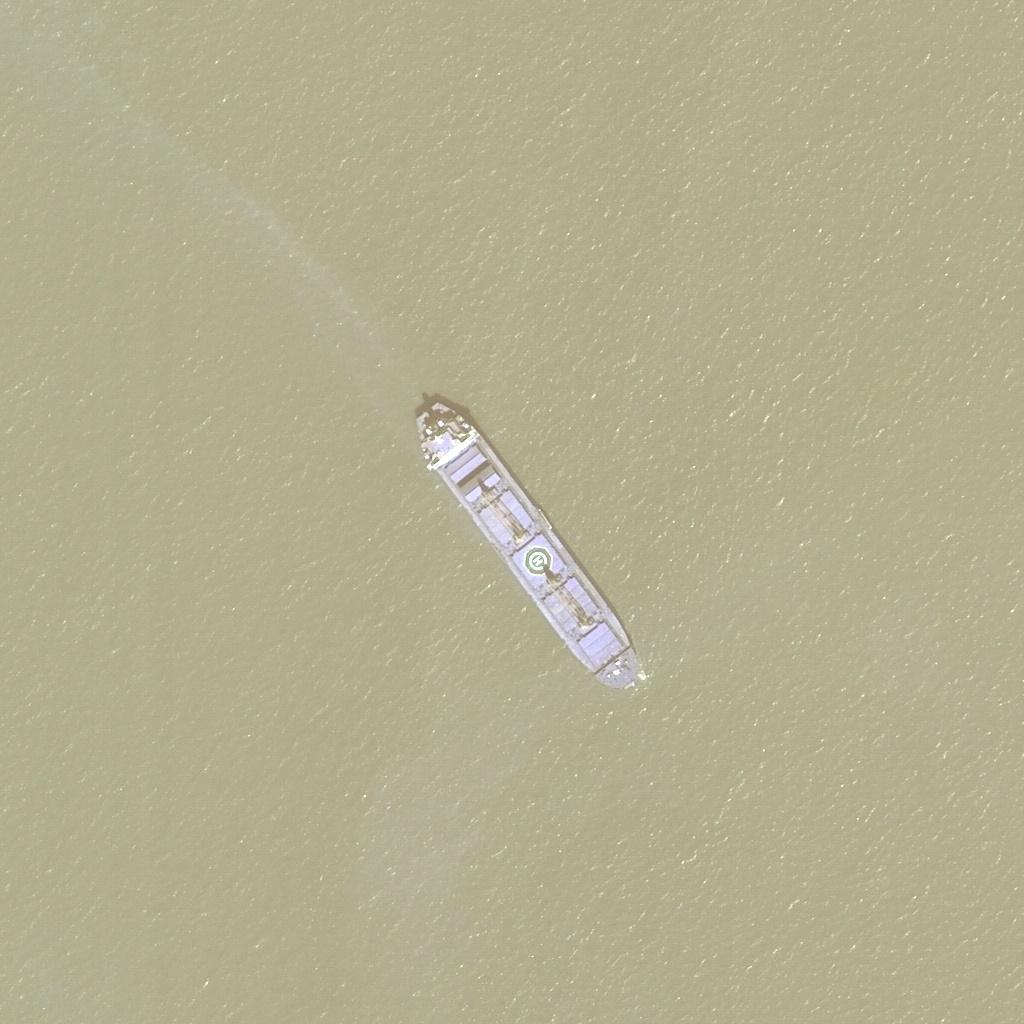ship: (414, 399, 652, 698)
